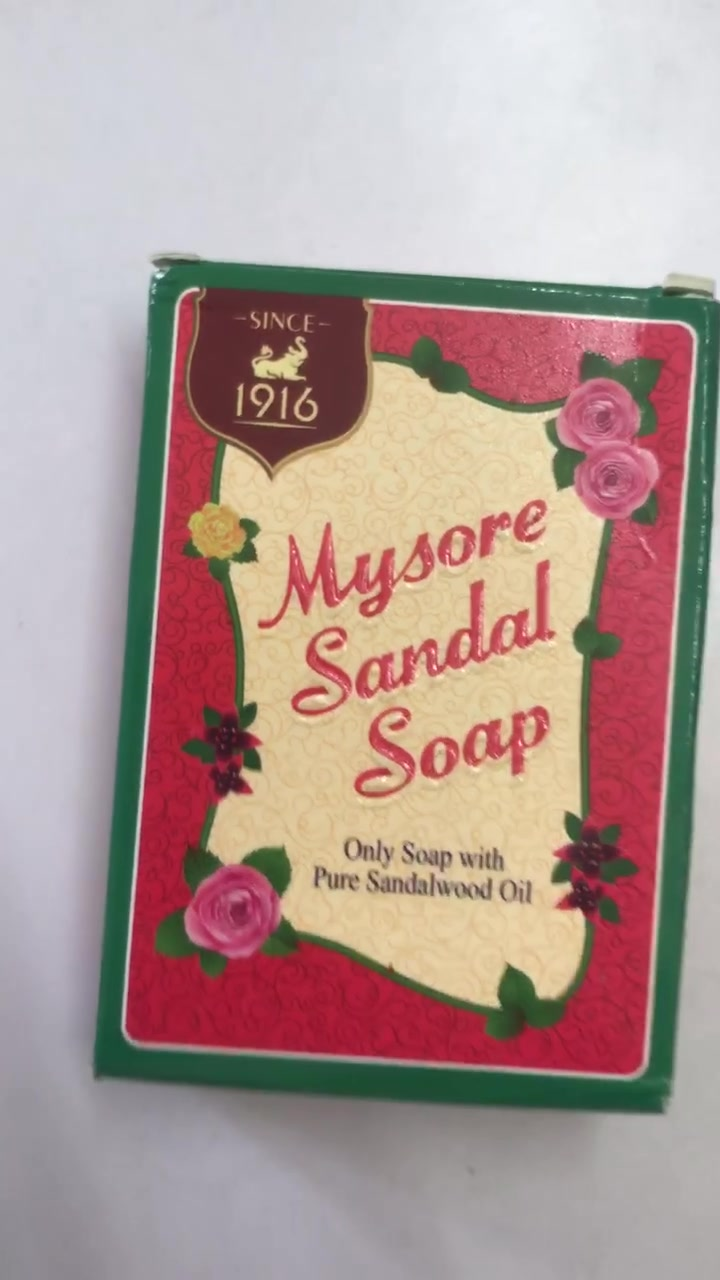mysore sandal soap: (92, 253, 696, 1124)
